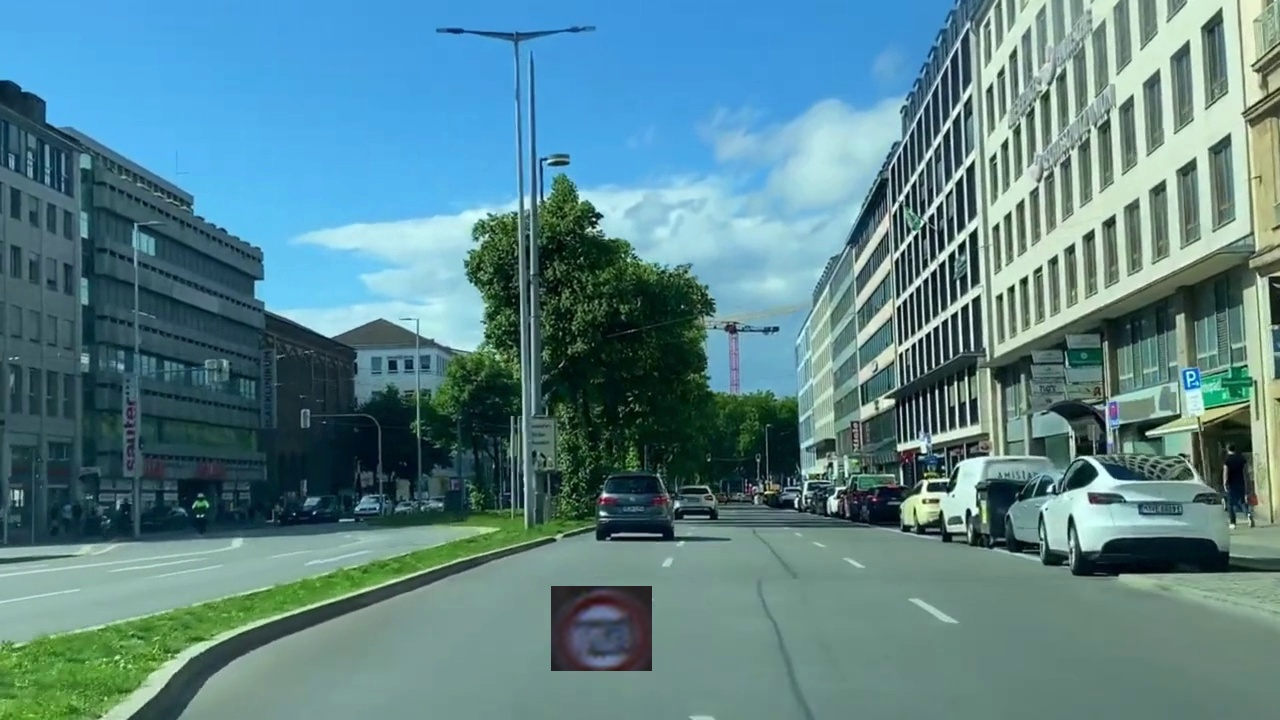Speed 120: (551, 586, 652, 671)
